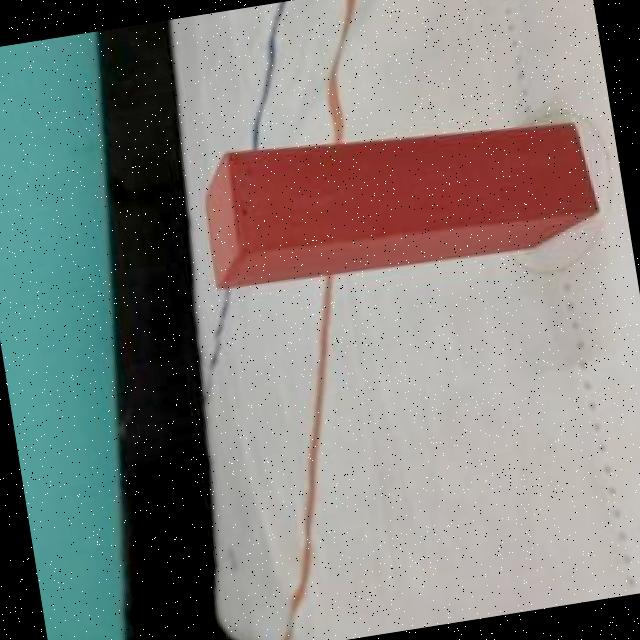redbox: (190, 98, 604, 302)
